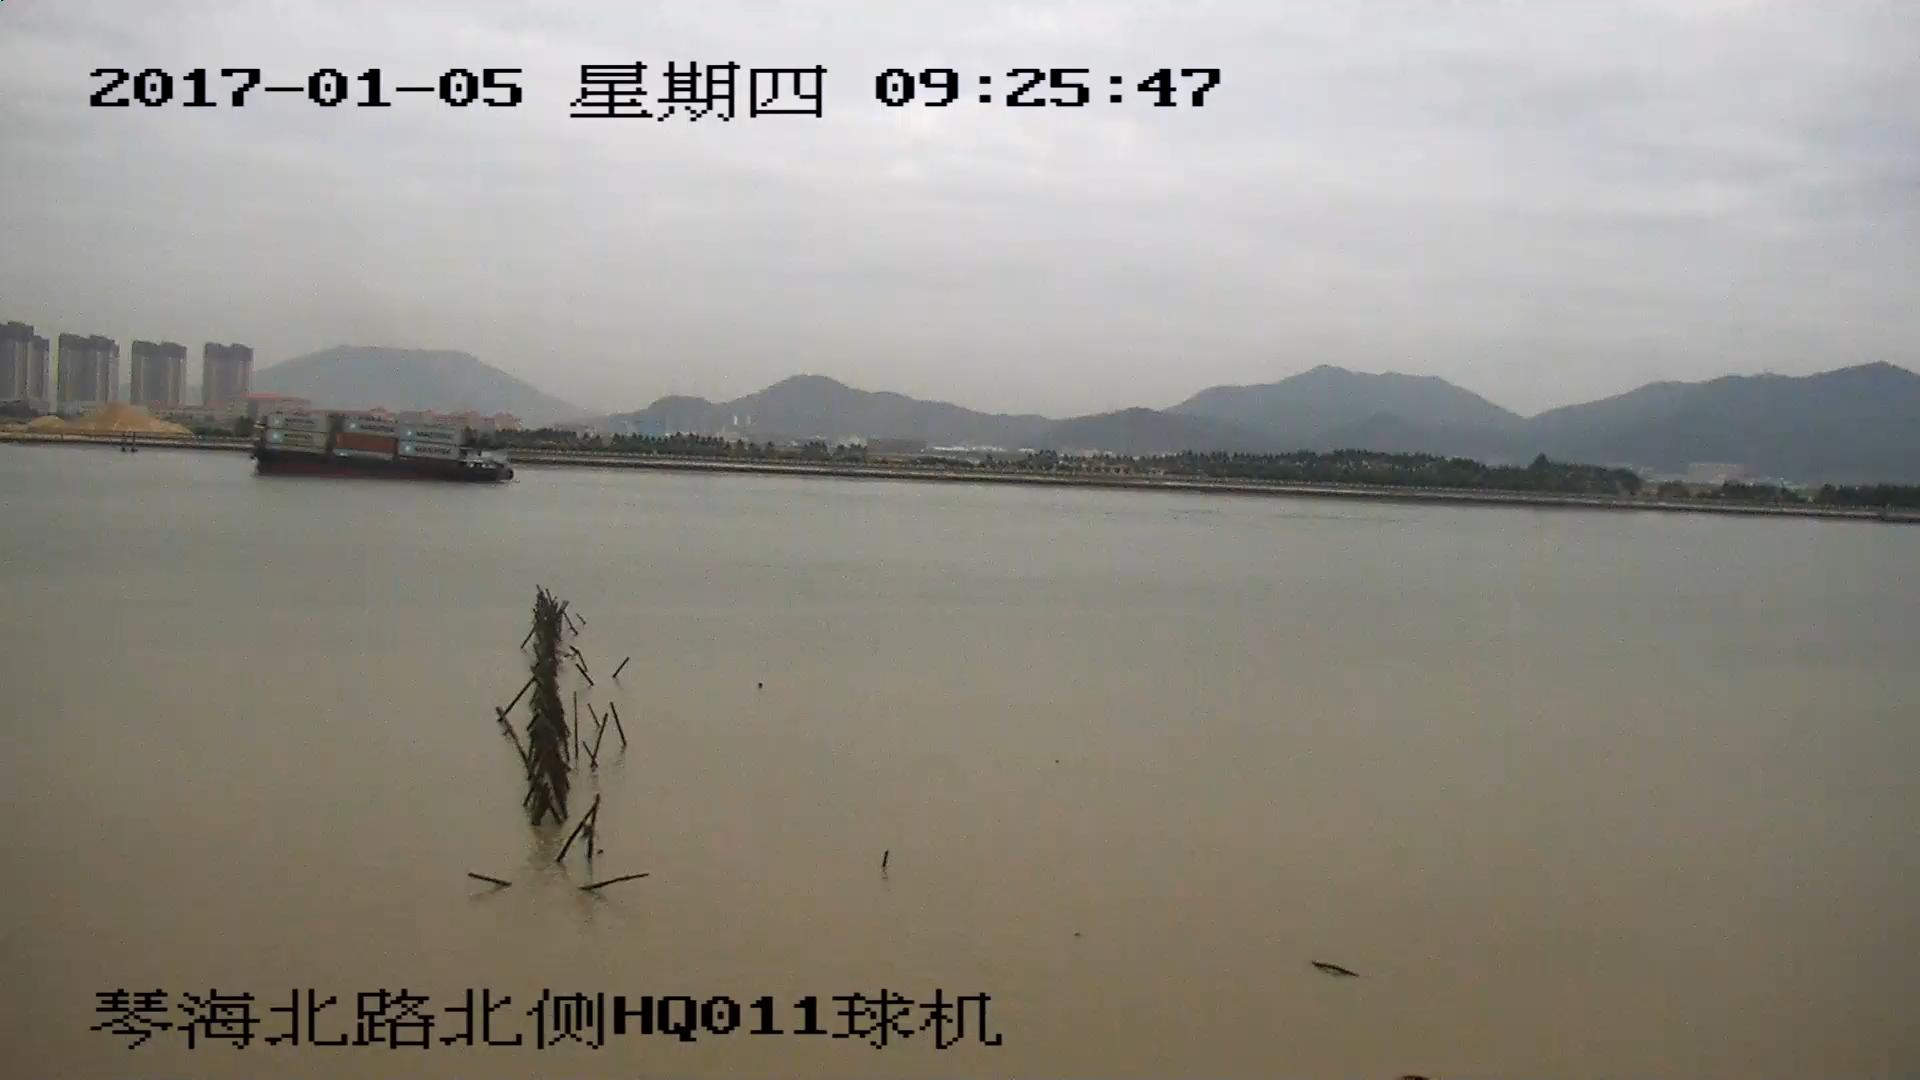container ship: (251, 415, 512, 482)
